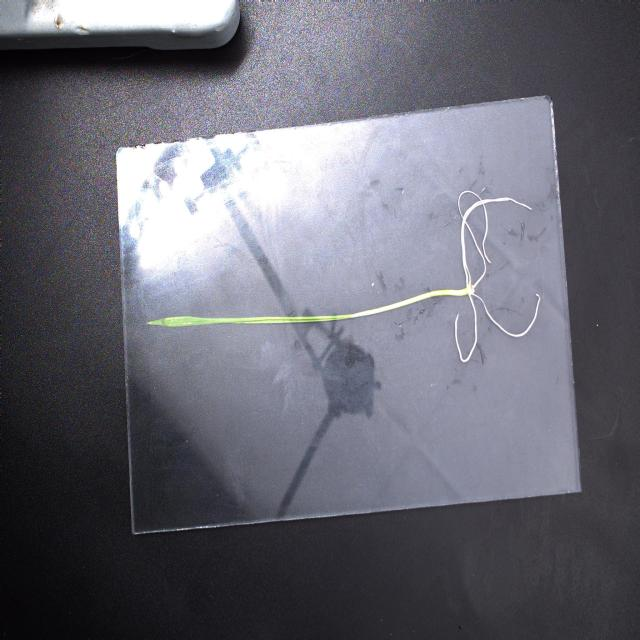leaf: (145, 312, 351, 330)
root: (454, 192, 543, 366)
stem: (351, 287, 469, 320)
